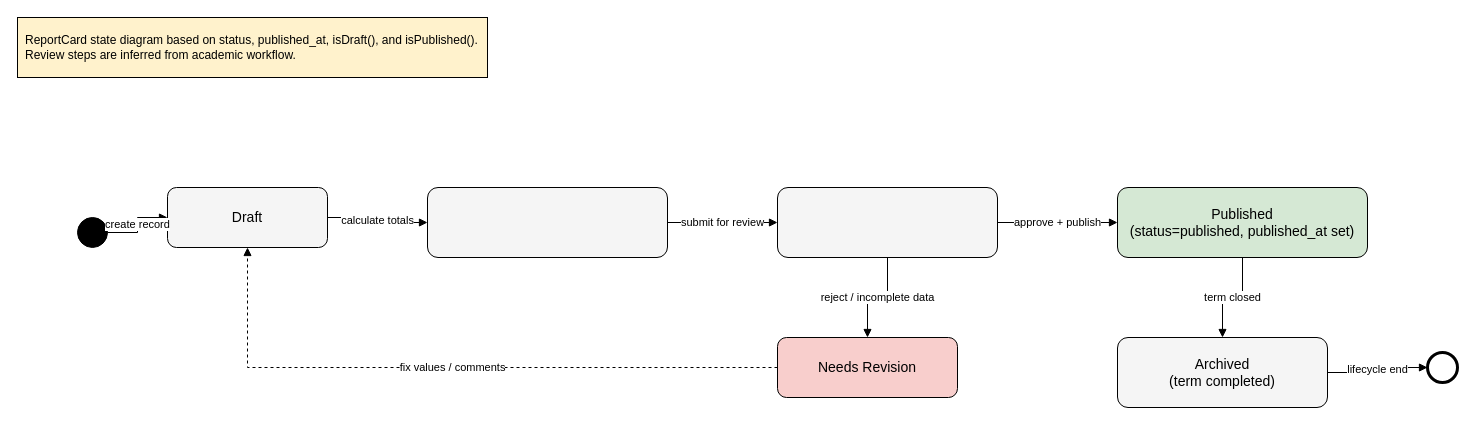
Some shapes in this 1476 by 425 pixel diagram are drawn without their labels. Each missing label, with the centre of its shape:
Compiled (scores + attendance aggregated): pixel 547 222
Reviewed (homeroom / admin check): pixel 887 222
